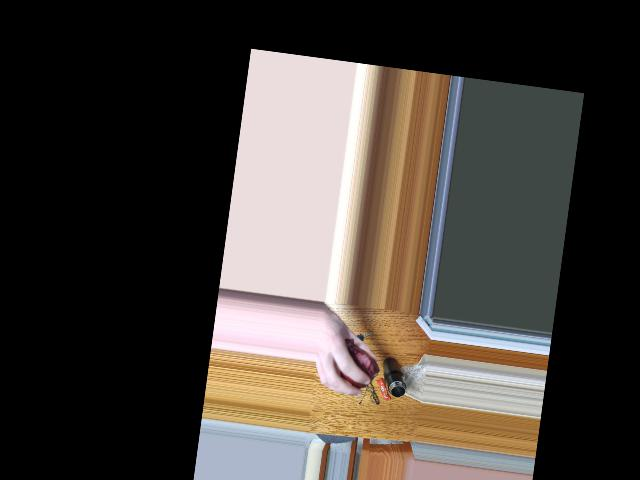onion: (338, 349, 377, 391)
